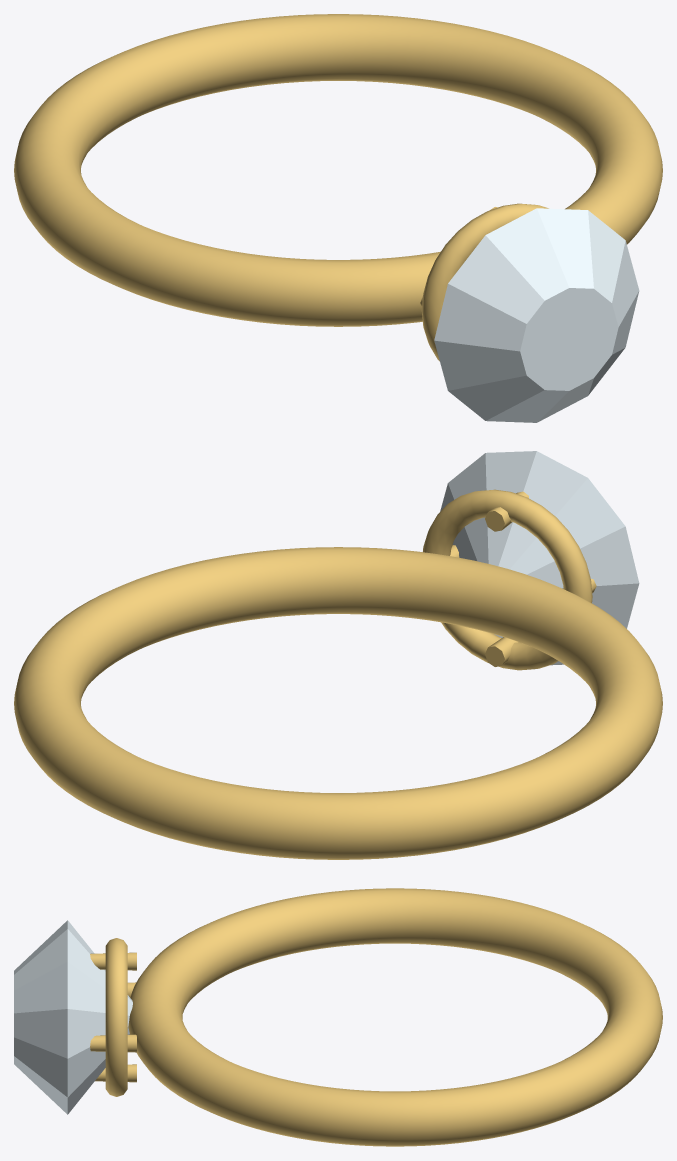
Rendered from solitaire.glb.
3 renders of one model, top to bottom at view 1: azimuth 30°, elevation 25°; view 2: azimuth 150°, elevation 25°; view 3: azimuth 270°, elevation 25°, orthographic. The views are drawn at different scales.
Visible parts, largest first — view 1: metal (×2), gem; view 2: metal (×3), gem; view 3: metal (×4), gem.
Part boxes in pixels (left/top/right/bottom): metal (×2): left=14, top=14, right=662, bottom=361; gem: left=434, top=208, right=639, bottom=422; metal (×3): left=14, top=489, right=662, bottom=859; gem: left=440, top=451, right=639, bottom=665; metal (×4): left=90, top=888, right=662, bottom=1146; gem: left=14, top=920, right=132, bottom=1114.
Bounding box in the file's own units: 2.52 × 0.92 × 3.05.
